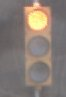Red: (20, 4, 56, 87)
